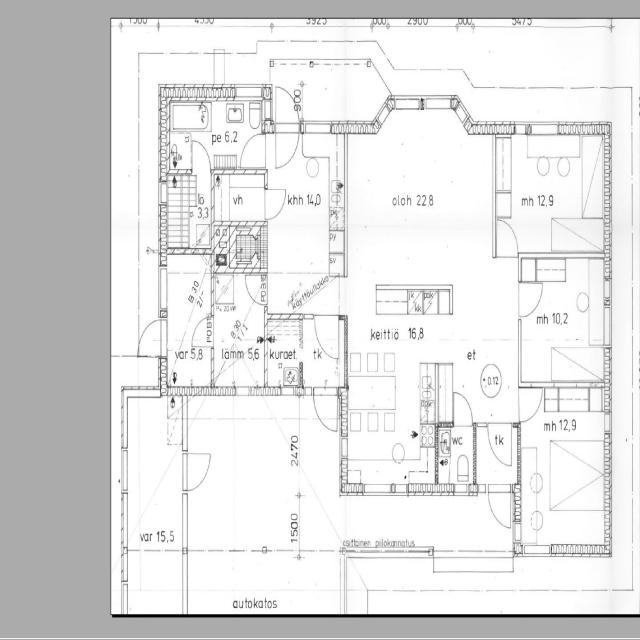door: (436, 423, 475, 493), (272, 80, 302, 170), (309, 382, 342, 436), (312, 309, 342, 361), (182, 446, 214, 492), (486, 481, 514, 531), (486, 422, 514, 471), (515, 278, 546, 320), (238, 129, 266, 173), (493, 214, 521, 258), (137, 316, 164, 359), (262, 182, 289, 222), (190, 312, 214, 349), (451, 390, 474, 428), (244, 271, 266, 308), (190, 137, 212, 171), (114, 552, 128, 580)
window: (599, 266, 616, 351), (156, 258, 169, 319), (451, 91, 474, 125), (118, 485, 129, 551), (300, 116, 333, 137), (421, 92, 453, 113), (392, 92, 423, 113), (118, 444, 131, 494), (361, 481, 396, 499), (527, 120, 561, 137), (373, 97, 392, 124), (458, 65, 476, 89)
zone: (348, 104, 494, 350), (520, 384, 611, 556), (121, 388, 186, 600), (343, 350, 438, 494), (493, 132, 603, 255), (264, 134, 346, 282), (518, 253, 608, 386), (222, 407, 298, 554), (166, 93, 266, 166), (212, 270, 266, 385), (164, 253, 214, 358), (160, 170, 213, 254), (213, 169, 267, 224), (265, 318, 303, 389), (185, 104, 229, 165), (167, 347, 214, 390), (237, 341, 265, 388), (516, 382, 545, 423), (168, 130, 192, 172)
